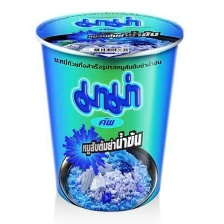paper_cup: (30, 7, 187, 213)
